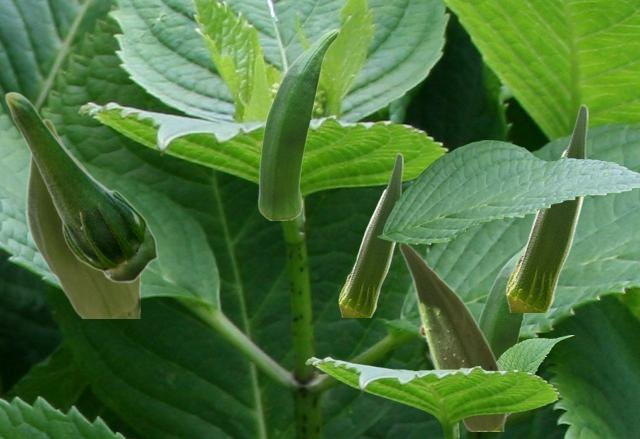okra: (4, 91, 157, 282), (25, 118, 139, 317), (398, 244, 505, 430), (505, 103, 587, 311), (257, 28, 339, 219), (338, 152, 402, 316), (478, 245, 525, 417)
